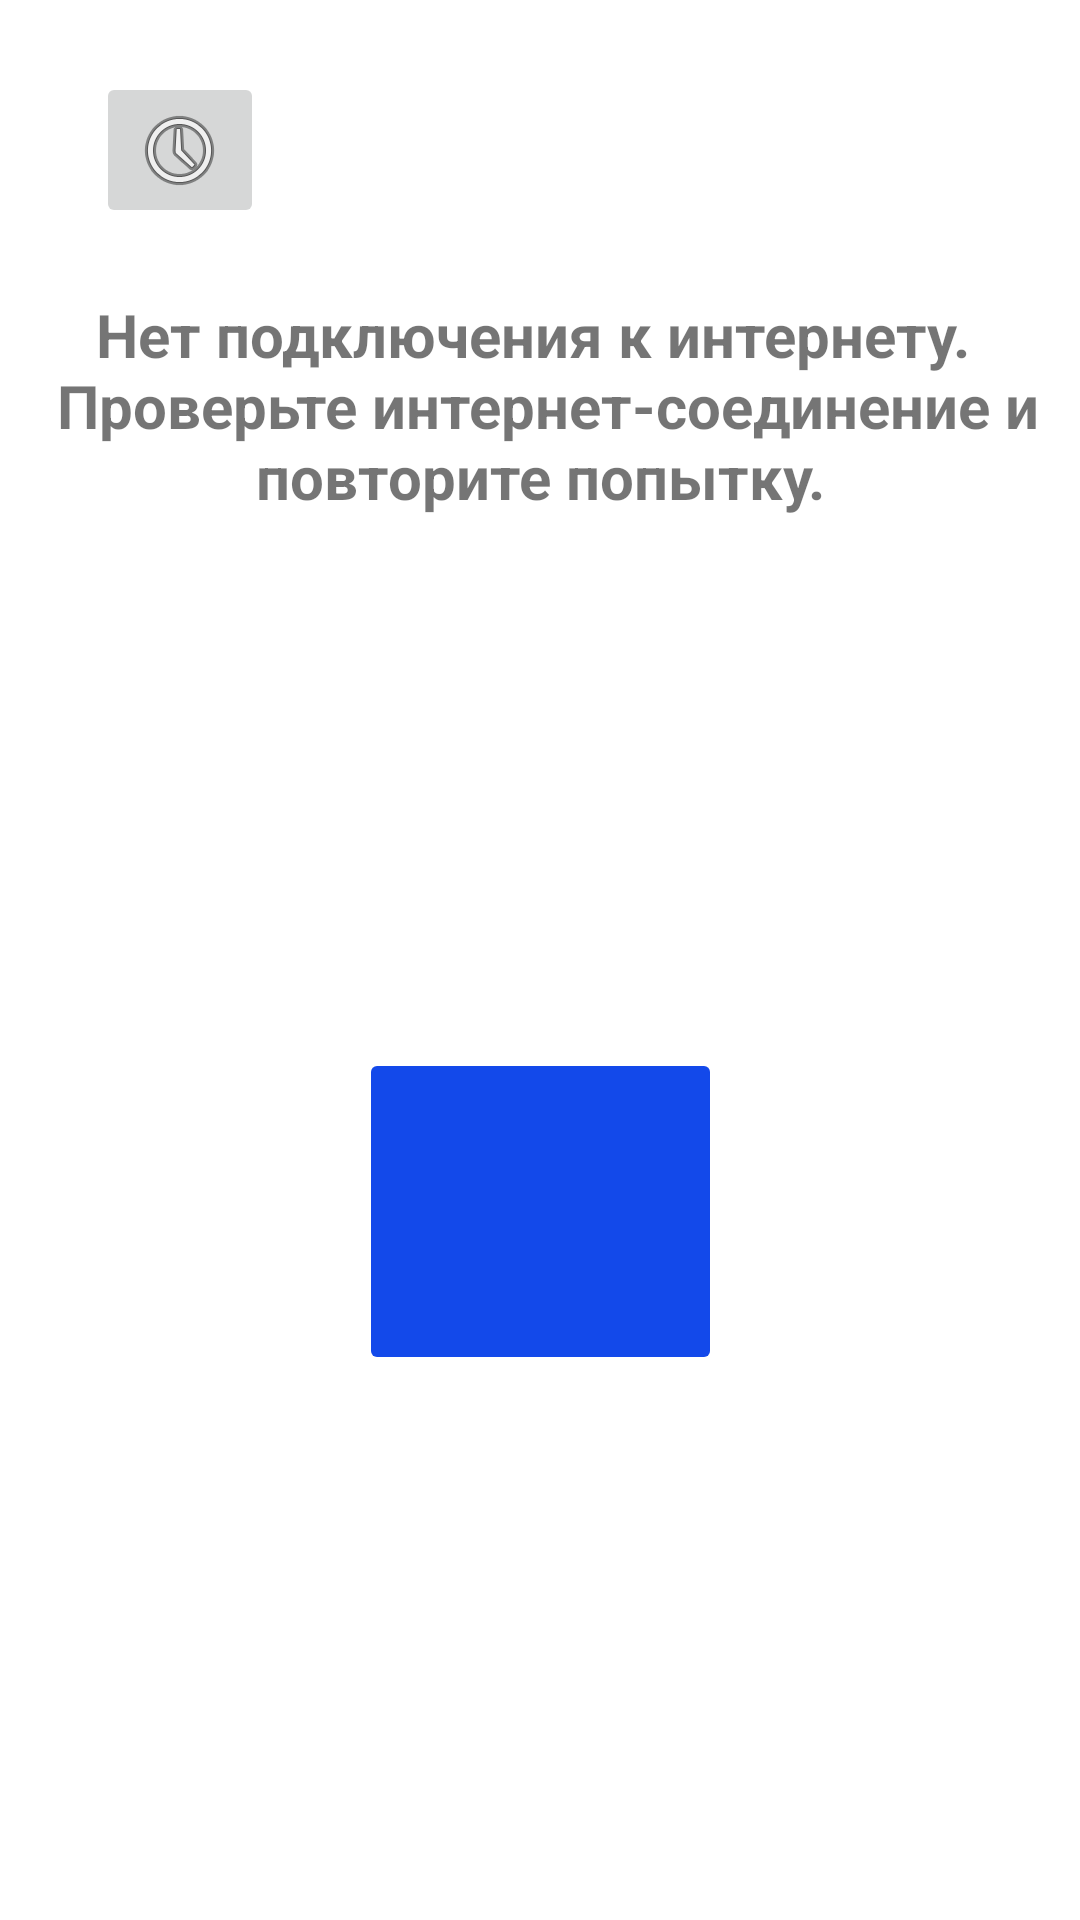

Locate icon controls on the screen. Image size 1080×1920, boxes as (x1, y1, x2, y2).
recent history: (108, 90, 252, 210)
